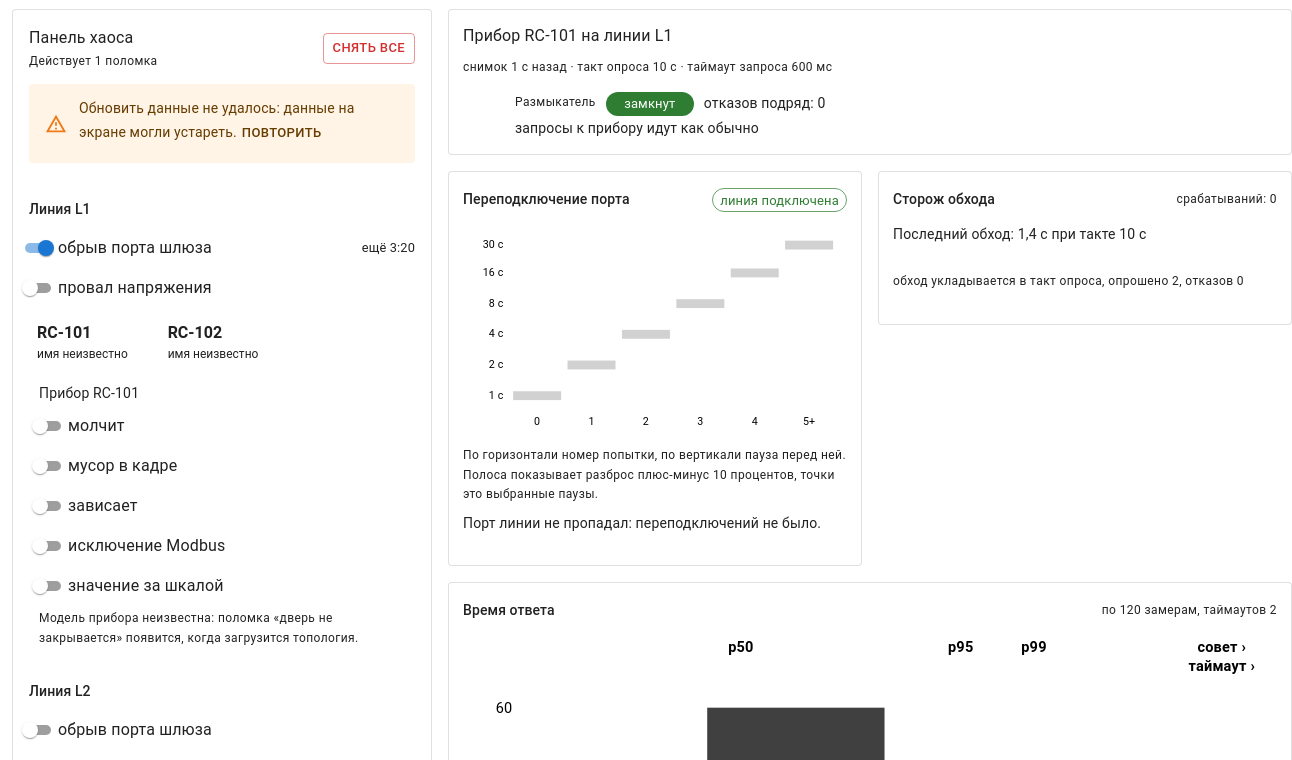
Scenario: лаборатория отказов › без топологии панель предупреждает, а после повтора появляется поломка двери
The image size is (1292, 760).
Expected: the text "Модель прибора неизвестна" is shown, [39,611,359,645]
Expected: the text "Обновить данные не удалось" is shown, [79,100,276,116]
Click the button "Повторить" at (282, 134), box [237,118,327,149]
(page scrolled)
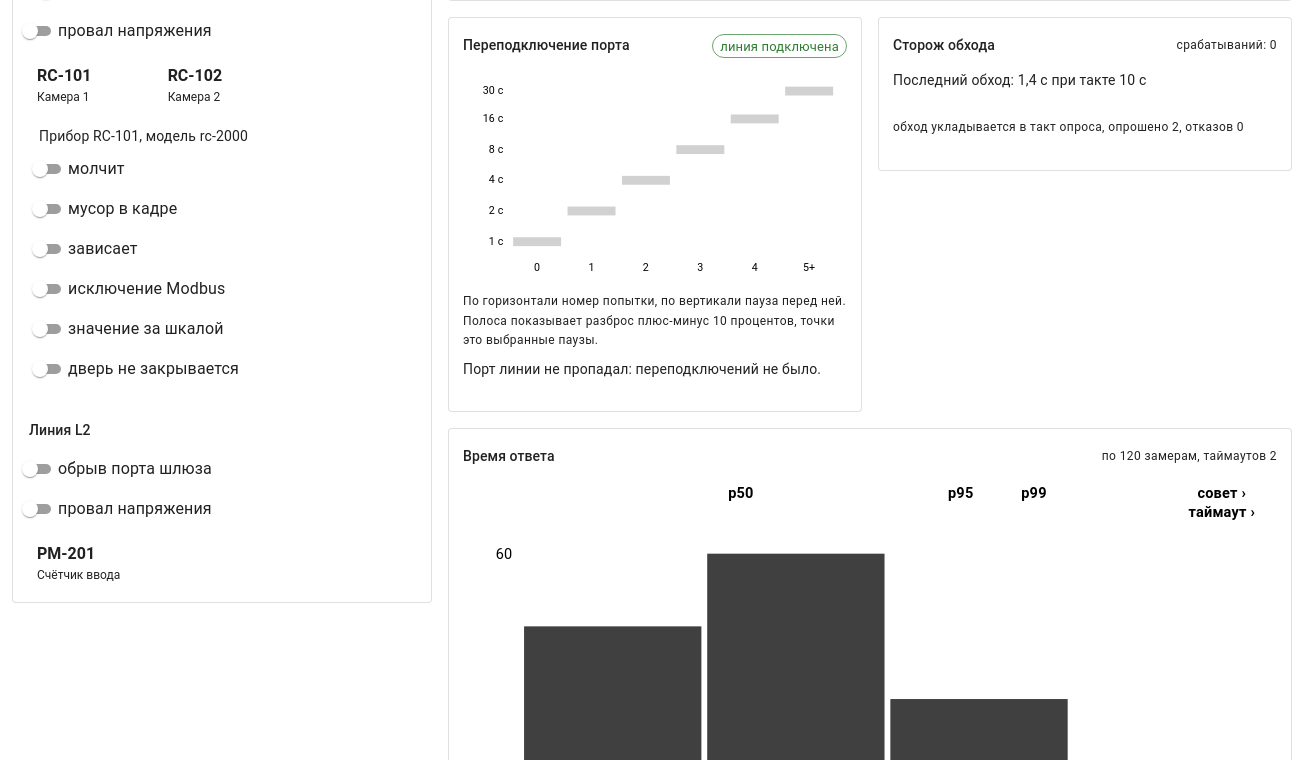
Expected: the switch labelled "дверь не закрывается" is shown, [32,359,239,378]
Expected: the text "Модель прибора неизвестна" is gone
Expected: the text "Обновить данные не удалось" is gone
